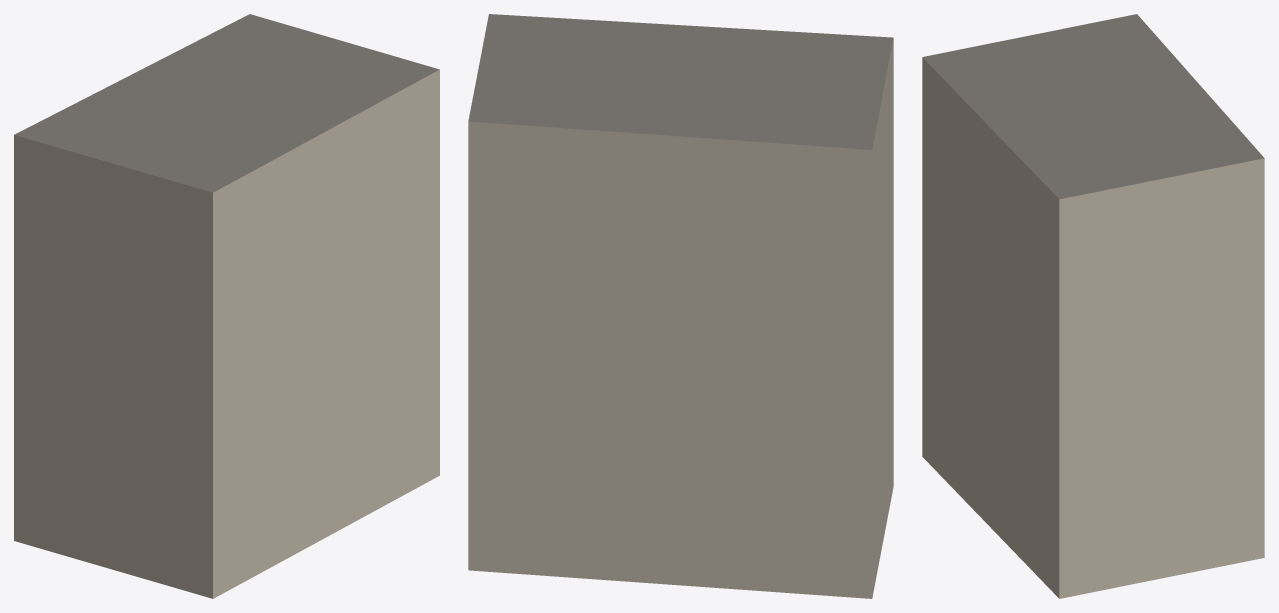
The picture shows the model from 3 angles, left to right: view 1: azimuth 30°, elevation 25°; view 2: azimuth 150°, elevation 25°; view 3: azimuth 270°, elevation 25°; orthographic projection. The views are drawn at different scales.
Visible parts, largest first — view 1: HP-w505659411; view 2: HP-w505659411; view 3: HP-w505659411.
Boxes of the visible parts, x1=… form: HP-w505659411: x1=14, y1=14, x2=439, y2=598; HP-w505659411: x1=468, y1=14, x2=893, y2=598; HP-w505659411: x1=922, y1=14, x2=1264, y2=598.
Bounding box in the file's own units: 17.91 × 18 × 13.98.
